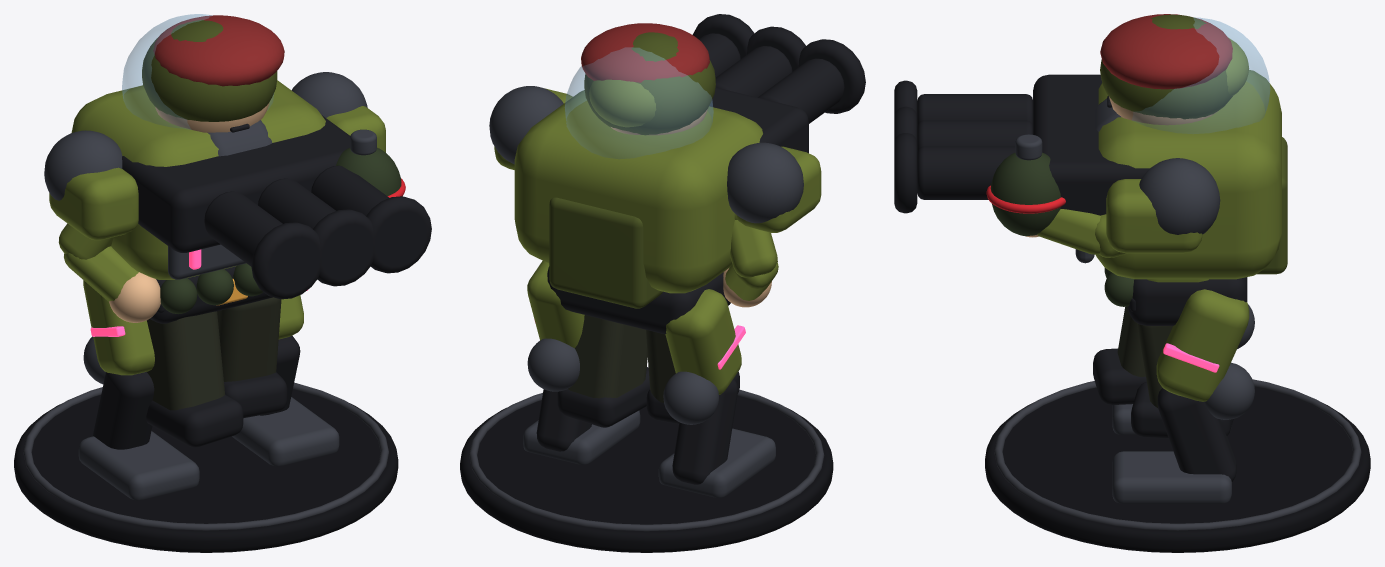
Rendered from kaster.glb.
3 views of the same model, side by side, from view 1: azimuth 30°, elevation 25°; view 2: azimuth 150°, elevation 25°; view 3: azimuth 270°, elevation 25° (orthographic). The views are drawn at different scales.
Parts seen in each view (by area): view 1: fod_net, vaaben5_net, op4.003_net, benV5_net, skuldre5_net, benV_net, ned3_net, benH_net, benH5_net, op3_net, skuldre_net, hoved5_net (+3 smaller); view 2: fod_net, op4.003_net, benV5_net, vaaben5_net, hoved5_net, skuldre5_net, benH5_net, op4_net, benH_net, ned3_net, op3_net, skuldre_net (+1 smaller); view 3: fod_net, op4.003_net, vaaben5_net, benH5_net, skuldre5_net, hoved5_net, ned3_net, vaaben_net, op3_net, benV_net, benH_net, skuldre_net (+5 smaller).
Part boxes in pixels (x1,y1,x2,y2): fod_net: (14,382,398,552); vaaben5_net: (122,115,431,299); op4.003_net: (71,80,325,323); benV5_net: (78,280,199,500); skuldre5_net: (44,72,385,240); benV_net: (146,311,243,447); ned3_net: (153,15,284,86); benH_net: (217,297,287,418); benH5_net: (232,290,339,466); op3_net: (142,19,277,121); skuldre_net: (58,223,160,322); hoved5_net: (122,14,273,129); fod_net: (460,389,833,552); op4.003_net: (514,90,762,334); benV5_net: (658,289,775,497); vaaben5_net: (692,14,865,153); hoved5_net: (565,47,713,158); skuldre5_net: (489,86,821,232); benH5_net: (523,261,640,464); op4_net: (549,197,662,308); benH_net: (557,315,649,427); ned3_net: (581,23,709,82); op3_net: (584,32,715,135); skuldre_net: (723,213,778,307); fod_net: (985,379,1370,552); op4.003_net: (1075,70,1281,325); vaaben5_net: (894,74,1149,215); benH5_net: (1112,289,1254,503); skuldre5_net: (1106,158,1220,253); hoved5_net: (1132,17,1270,133); ned3_net: (1100,14,1232,89); vaaben_net: (990,134,1060,236); op3_net: (1100,14,1232,119); benV_net: (1093,306,1146,404); benH_net: (1131,323,1233,438); skuldre_net: (1026,209,1127,257).
Bounding box in the file's own units: 2 × 2.58 × 2.47.
